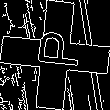P_W: (28, 34, 82, 76)
